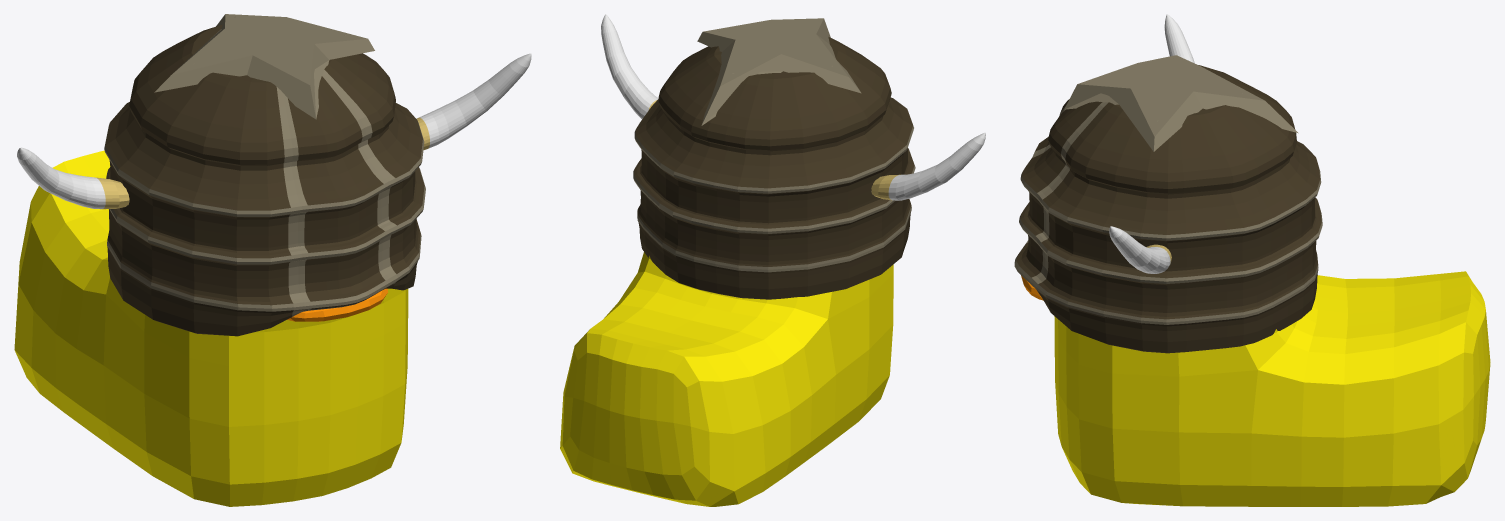
The model's file is Duck_Knightmare.glb.
The picture shows the model from 3 angles, left to right: view 1: azimuth 30°, elevation 25°; view 2: azimuth 150°, elevation 25°; view 3: azimuth 270°, elevation 25°; orthographic projection. The views are drawn at different scales.
Parts seen in each view (by area): view 1: Helmet, Duck; view 2: Helmet, Duck; view 3: Duck, Helmet.
Part boxes in pixels (x1,y1,x2,y2): Helmet: (17, 14, 531, 336); Duck: (14, 150, 408, 506); Helmet: (601, 14, 985, 299); Duck: (560, 252, 893, 506); Duck: (1021, 271, 1490, 506); Helmet: (1014, 14, 1322, 353).
Bounding box in the file's own units: 4.23 × 3.59 × 4.
